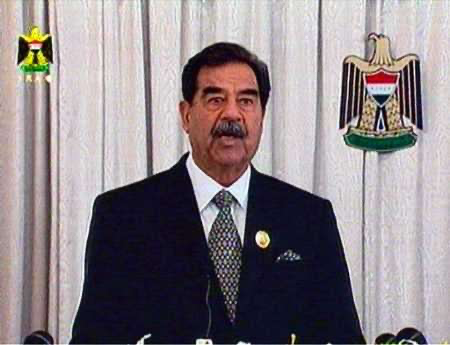Face: (188, 68, 270, 171)
